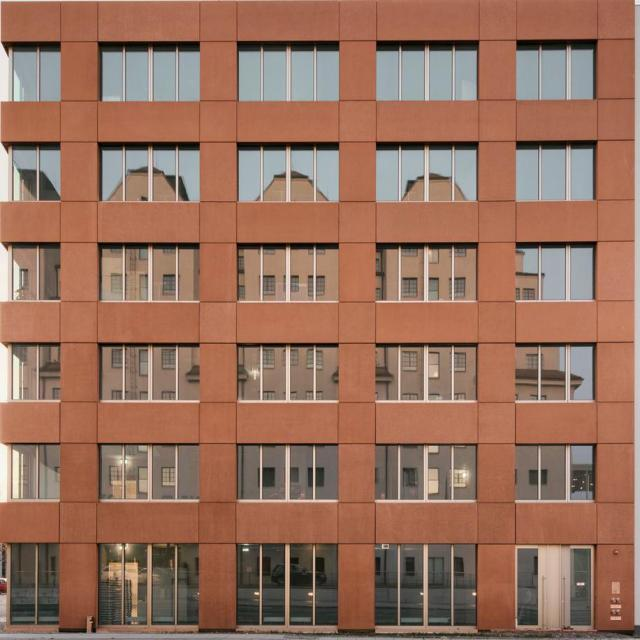door: (375, 541, 478, 631), (235, 543, 338, 629), (99, 545, 199, 631), (516, 545, 596, 627), (7, 546, 58, 633)
window: (377, 145, 479, 199), (376, 242, 478, 296), (375, 45, 477, 98), (377, 344, 479, 397), (377, 441, 479, 494), (237, 45, 337, 99), (239, 344, 339, 398), (240, 441, 340, 495), (101, 245, 202, 298), (238, 243, 339, 296), (103, 443, 204, 496), (100, 47, 200, 100), (239, 146, 339, 199), (102, 346, 202, 399), (102, 148, 202, 200), (517, 47, 594, 100), (519, 346, 596, 399), (520, 443, 597, 496), (518, 245, 596, 297), (519, 148, 596, 200), (8, 47, 62, 101), (10, 148, 64, 201), (10, 245, 64, 298), (10, 347, 64, 400), (11, 444, 65, 497)
